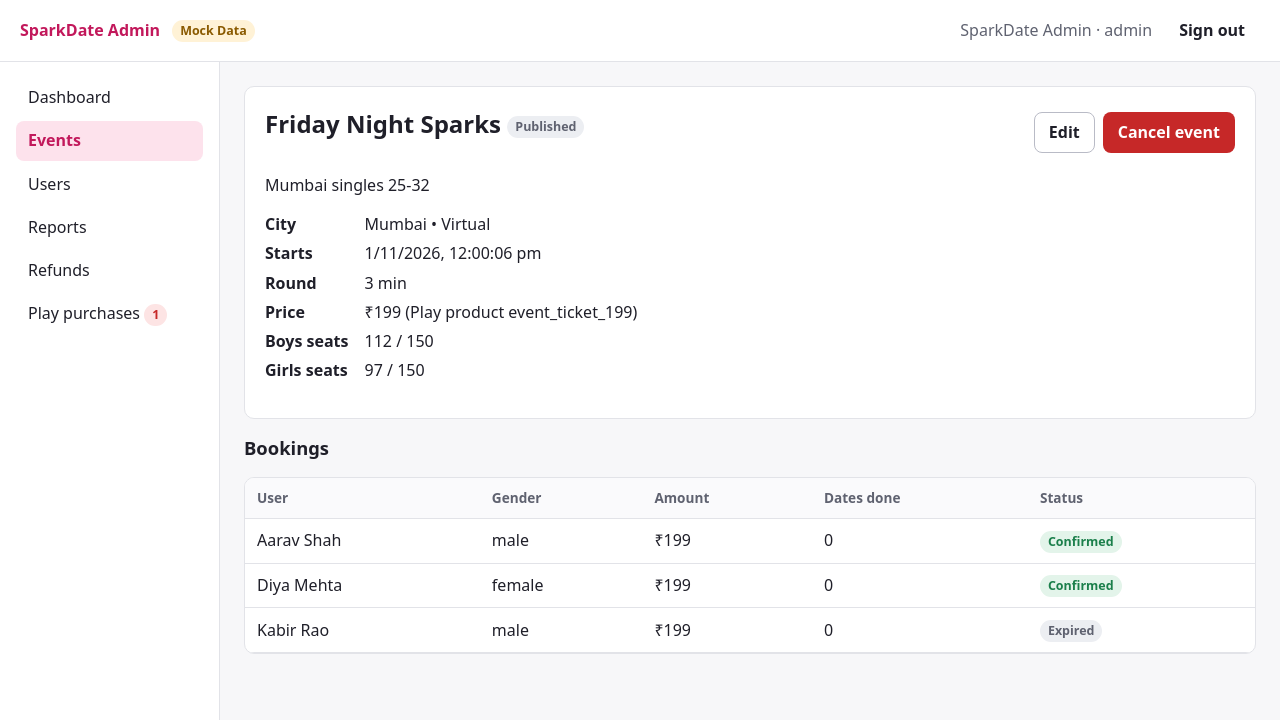
Scenario: pages (mock API) › cancels an event after a danger confirm and shows the refund summary
The width and height of the screenshot is (1280, 720).
Click the button "Cancel event" at (1169, 133), box [1103,112,1235,153]
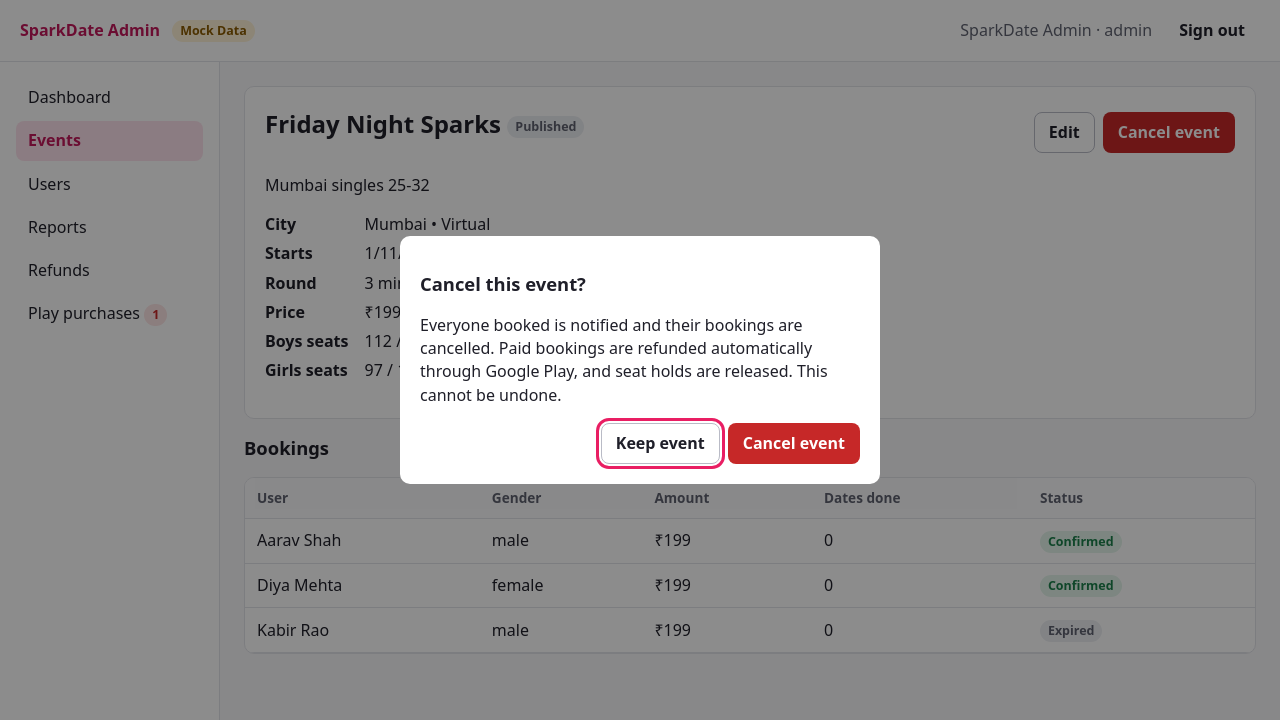
Check: the text "Paid bookings are refunded automatically" is shown, box [420,314,828,406]
Click the button "Cancel event" at (794, 443), box [728,423,860,464]
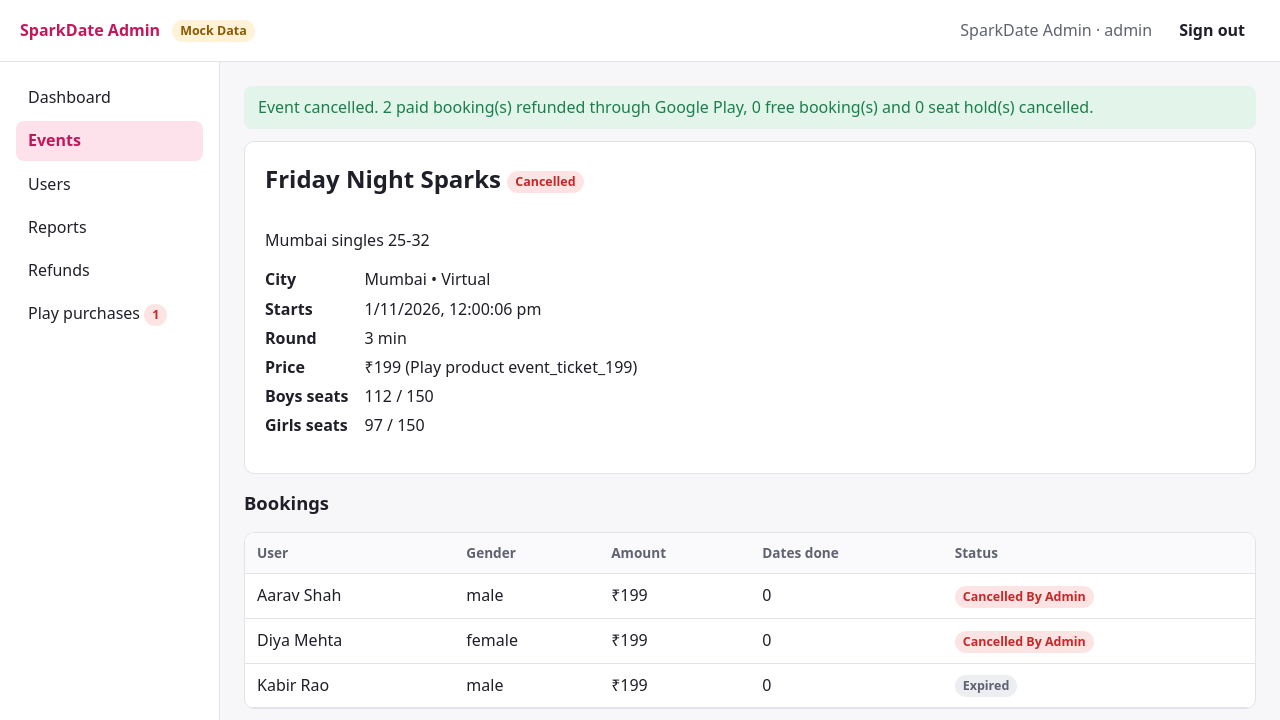
Check: the text "Event cancelled. 2 paid booking(s) refunded" is shown, box [258,96,1094,118]
